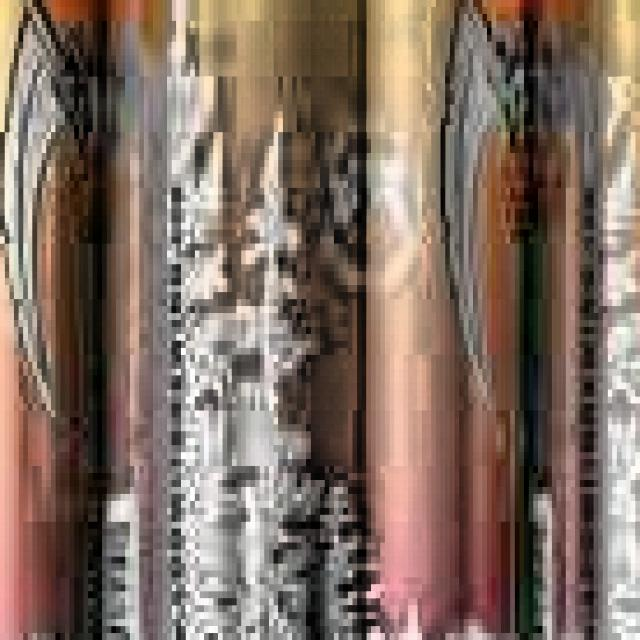metal: (102, 0, 533, 640)
